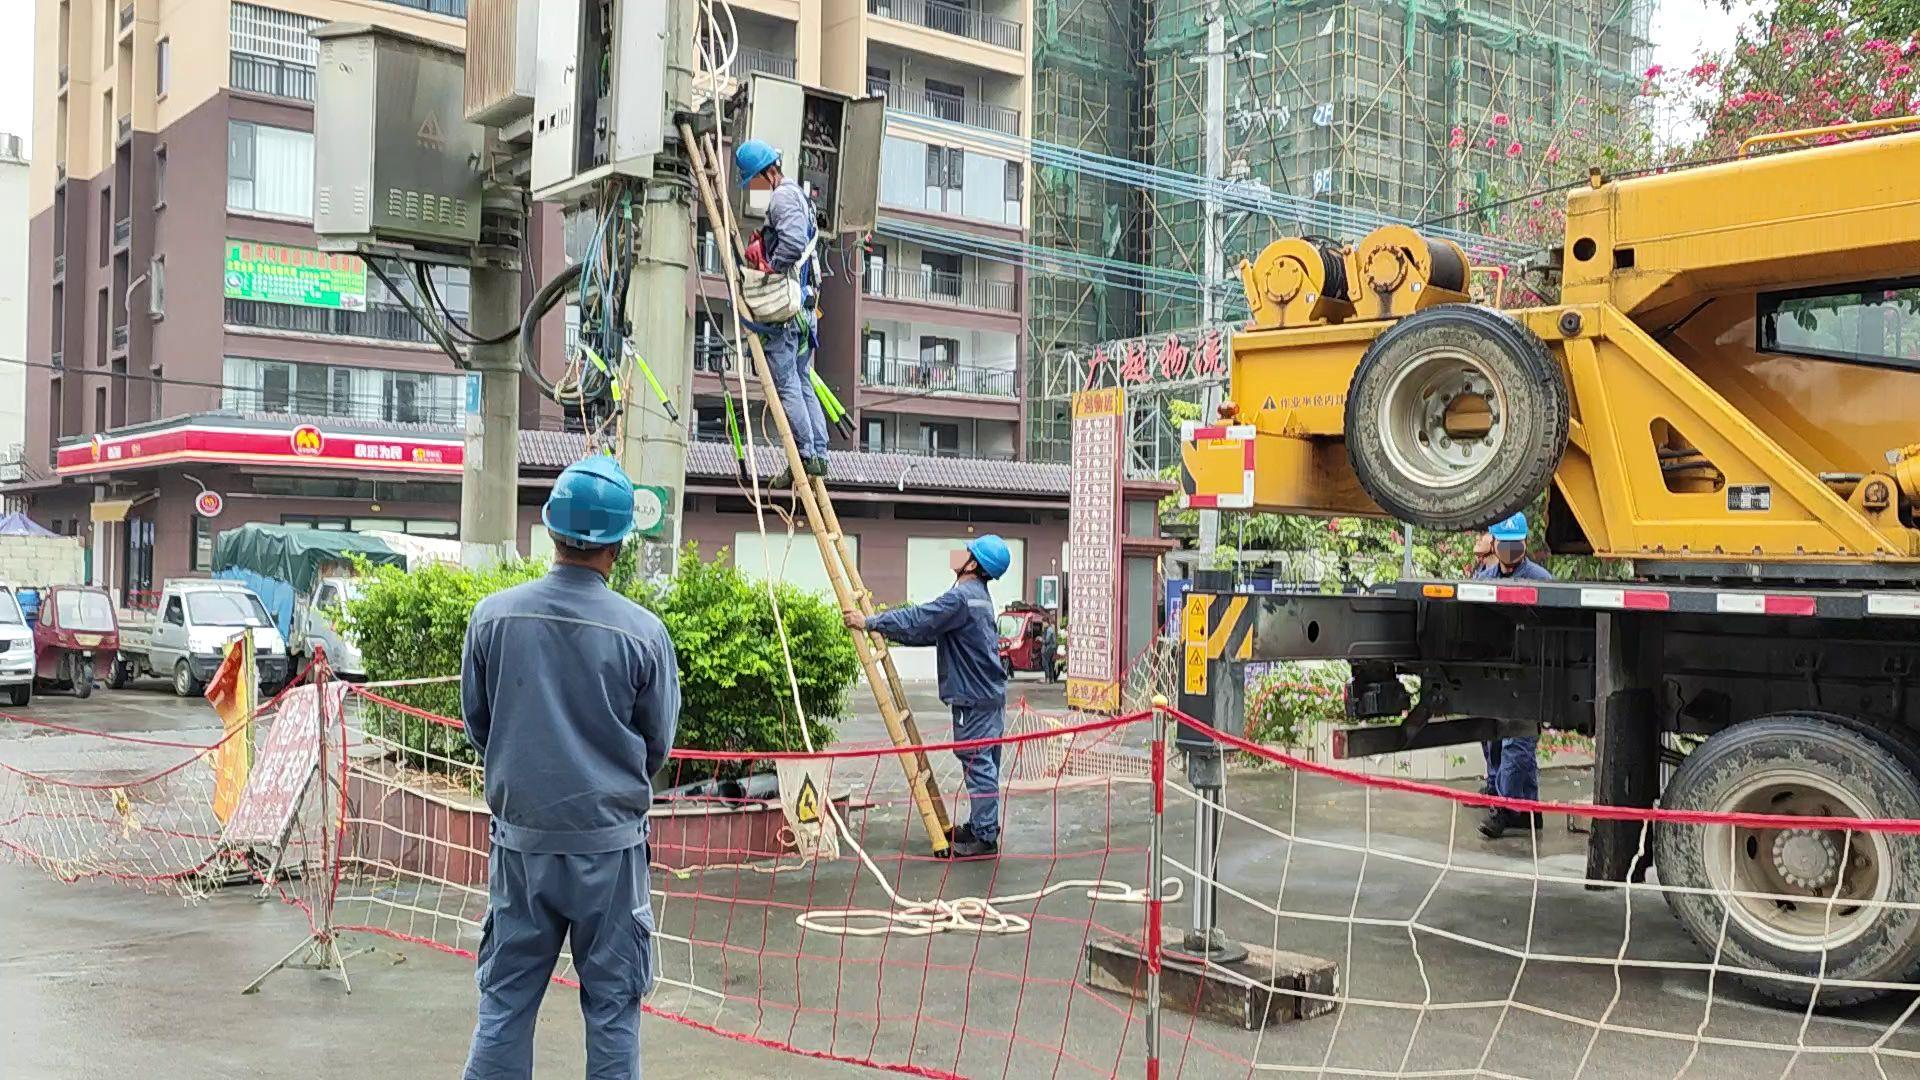halt: (543, 458, 640, 563), (955, 538, 1013, 585), (737, 142, 786, 198), (1487, 514, 1534, 568)
